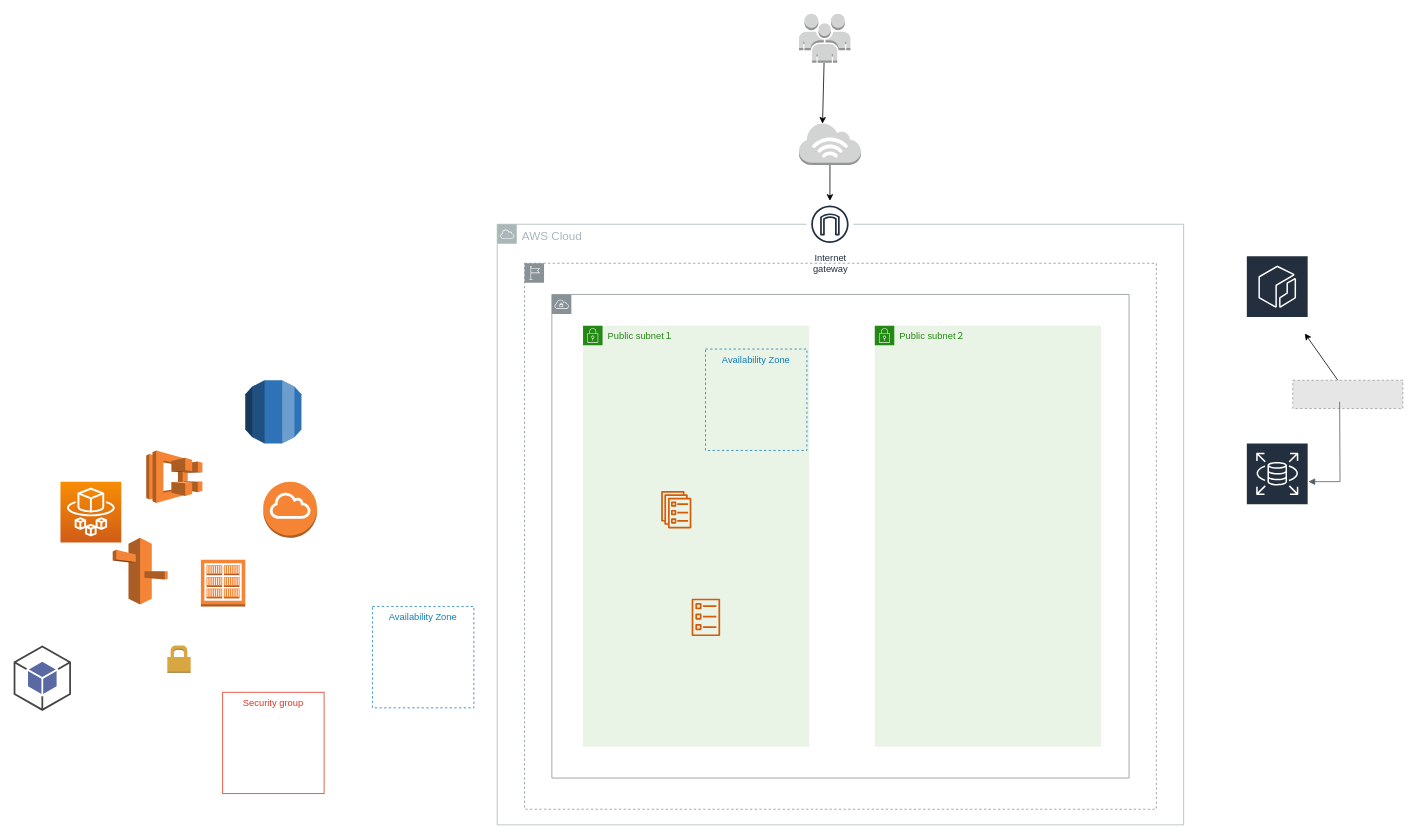
This 1416x838 diagram has some shape labels left out. Grey dashed boxes stand in for pictures. Here are the shapes that lost their labels. From the top down, the box of each, then its label:
(1245, 255, 1308, 333): Amazon ECR
(1245, 442, 1308, 521): Amazon RDS
(524, 262, 1156, 809): Region（ap-northeast1 東京）
(551, 294, 1129, 778): VPC
